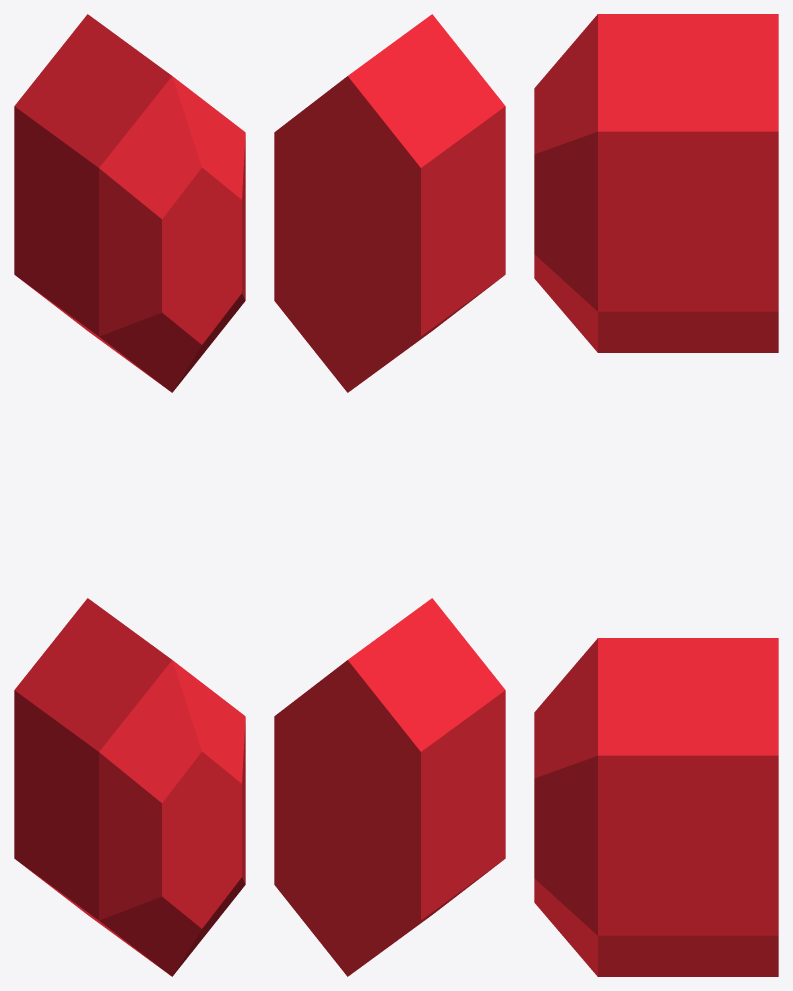
File: Colon.fbx
3 renders of one model, left to right at view 1: azimuth 30°, elevation 25°; view 2: azimuth 150°, elevation 25°; view 3: azimuth 270°, elevation 25°, orthographic. The views are drawn at different scales.
Parts seen in each view (by area): view 1: Segment.044, Segment.048; view 2: Segment.044, Segment.048; view 3: Segment.044, Segment.048.
Boxes of the visible parts, x1,y1,x2,y2 form: Segment.044: (14,598,245,976); Segment.048: (14,14,245,392); Segment.044: (274,598,505,976); Segment.048: (274,14,505,392); Segment.044: (534,638,778,976); Segment.048: (534,14,778,352).
Bounding box in the file's own units: 19.93 × 26.93 × 117.
